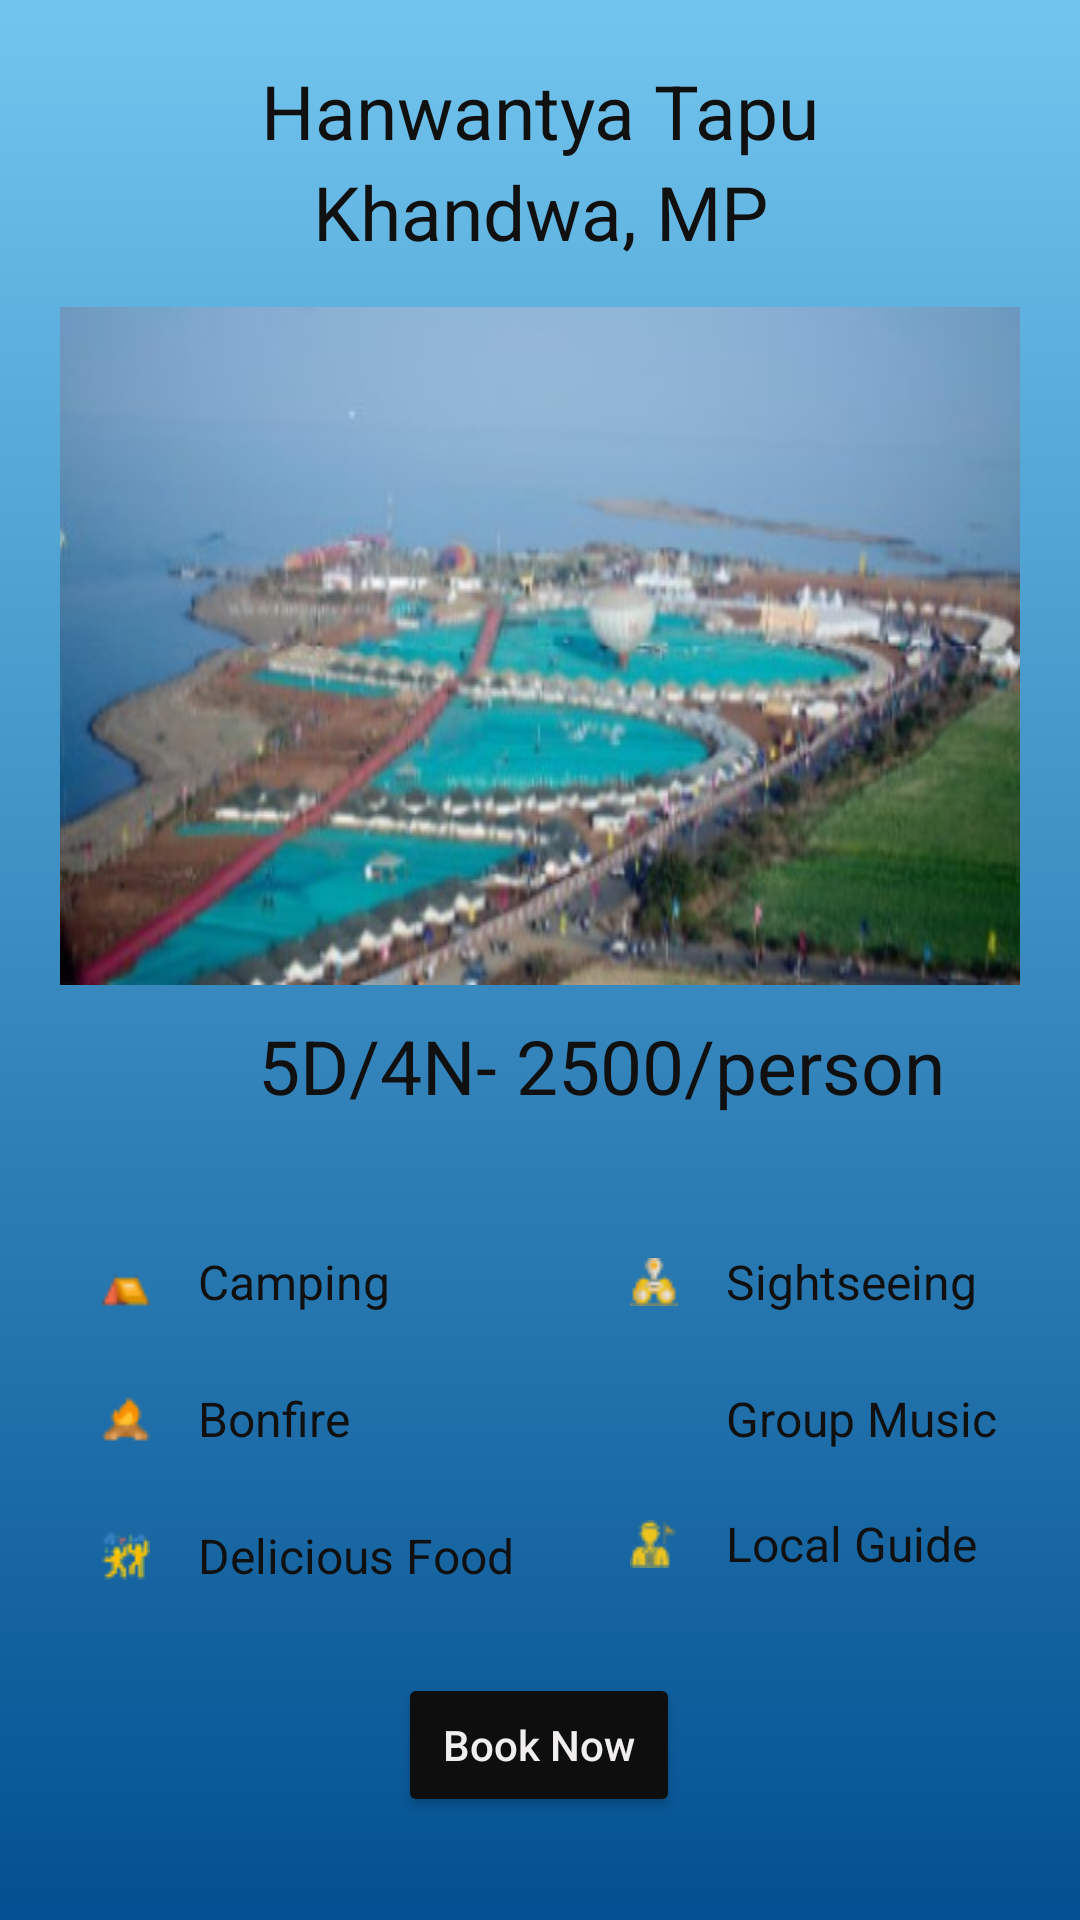

Icon bounding boxes for this 1080 x 1920 phone screenshot, format (x1, y1, x2, y2):
campfire: (102, 1397, 150, 1441)
dance: (102, 1535, 150, 1580)
tent: (102, 1276, 150, 1306)
